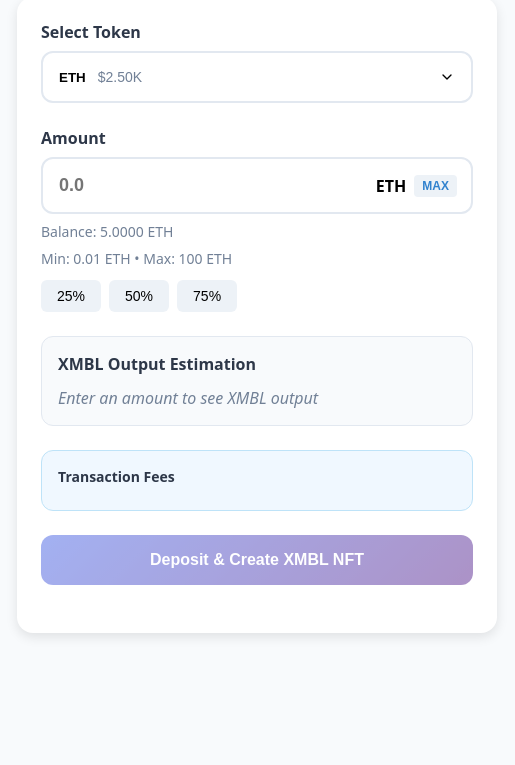
DepositForm › should show USD value preview
Type "1.0" into the field with test id "amount-input". click: (257, 186)
box: [41,157,473,214]
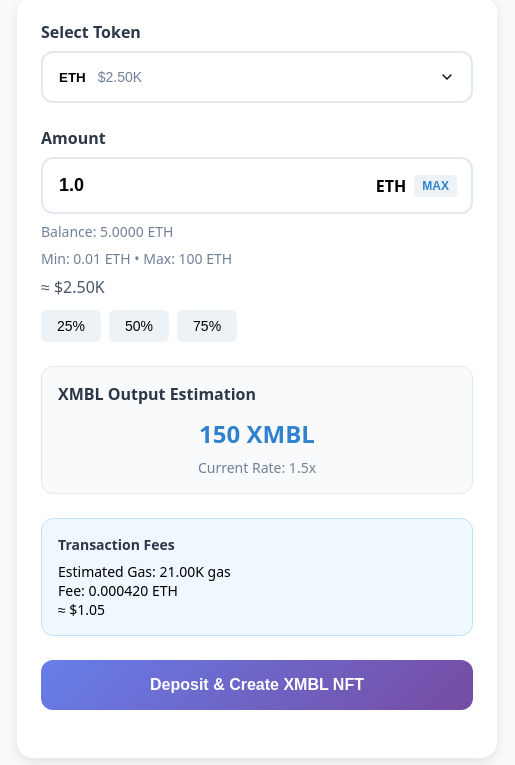
Check: the text "≈ $2.50K" is shown, box [41,276,105,298]
